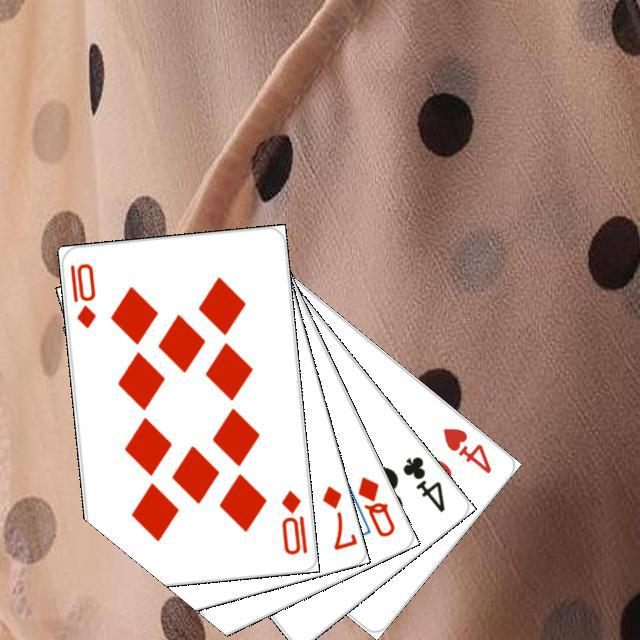10d: (276, 485, 309, 557), (65, 258, 98, 330)
4c: (397, 451, 447, 514)
4h: (438, 422, 493, 476)
7d: (317, 480, 357, 552)
Qd: (352, 471, 397, 539)
